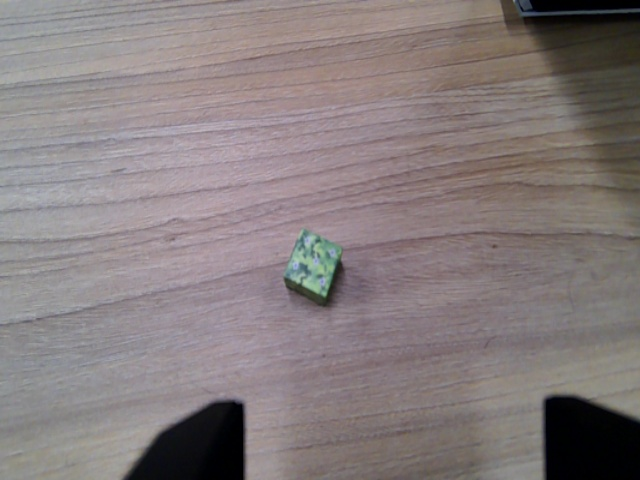grass: (282, 230, 346, 304)
